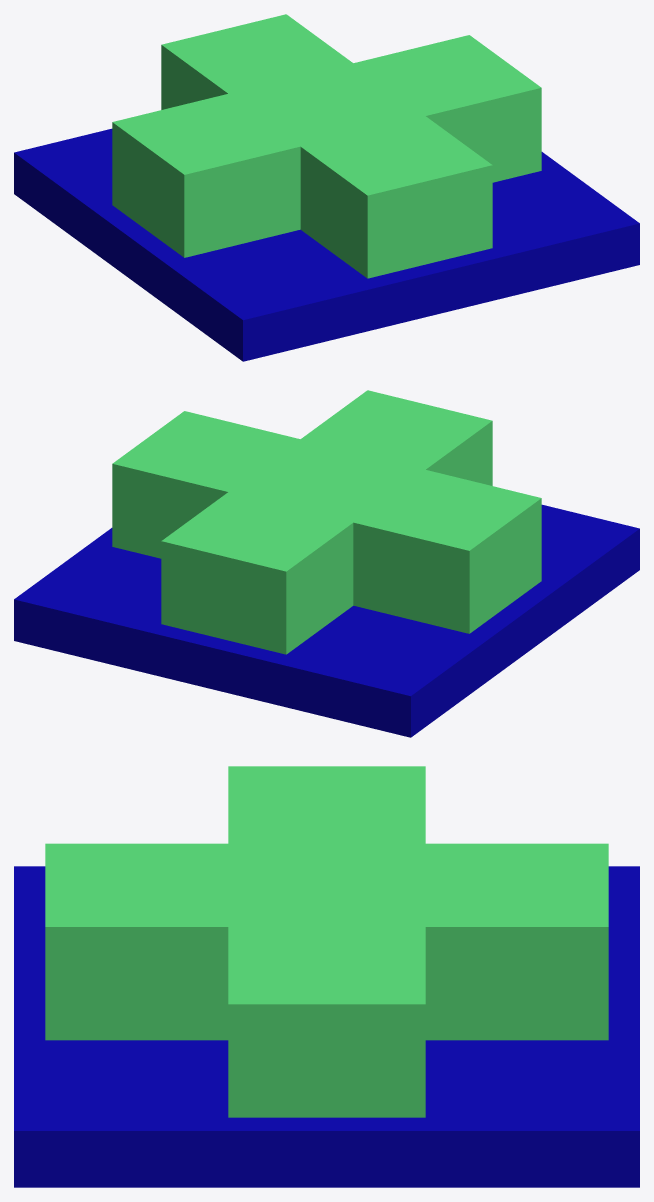
File: Face_Cruz_Ext.glb
3 views of the same model, one above another, from view 1: azimuth 30°, elevation 25°; view 2: azimuth 150°, elevation 25°; view 3: azimuth 270°, elevation 25° (orthographic). The views are drawn at different scales.
Parts seen in each view (by area): view 1: Face_Cruz_Ext; view 2: Face_Cruz_Ext; view 3: Face_Cruz_Ext.
Boxes of the visible parts, x1,y1,x2,y2 form: Face_Cruz_Ext: (14,14,639,361); Face_Cruz_Ext: (14,390,639,737); Face_Cruz_Ext: (14,766,639,1187).
Size of the model in its own units: 2 by 0.6 by 2.
